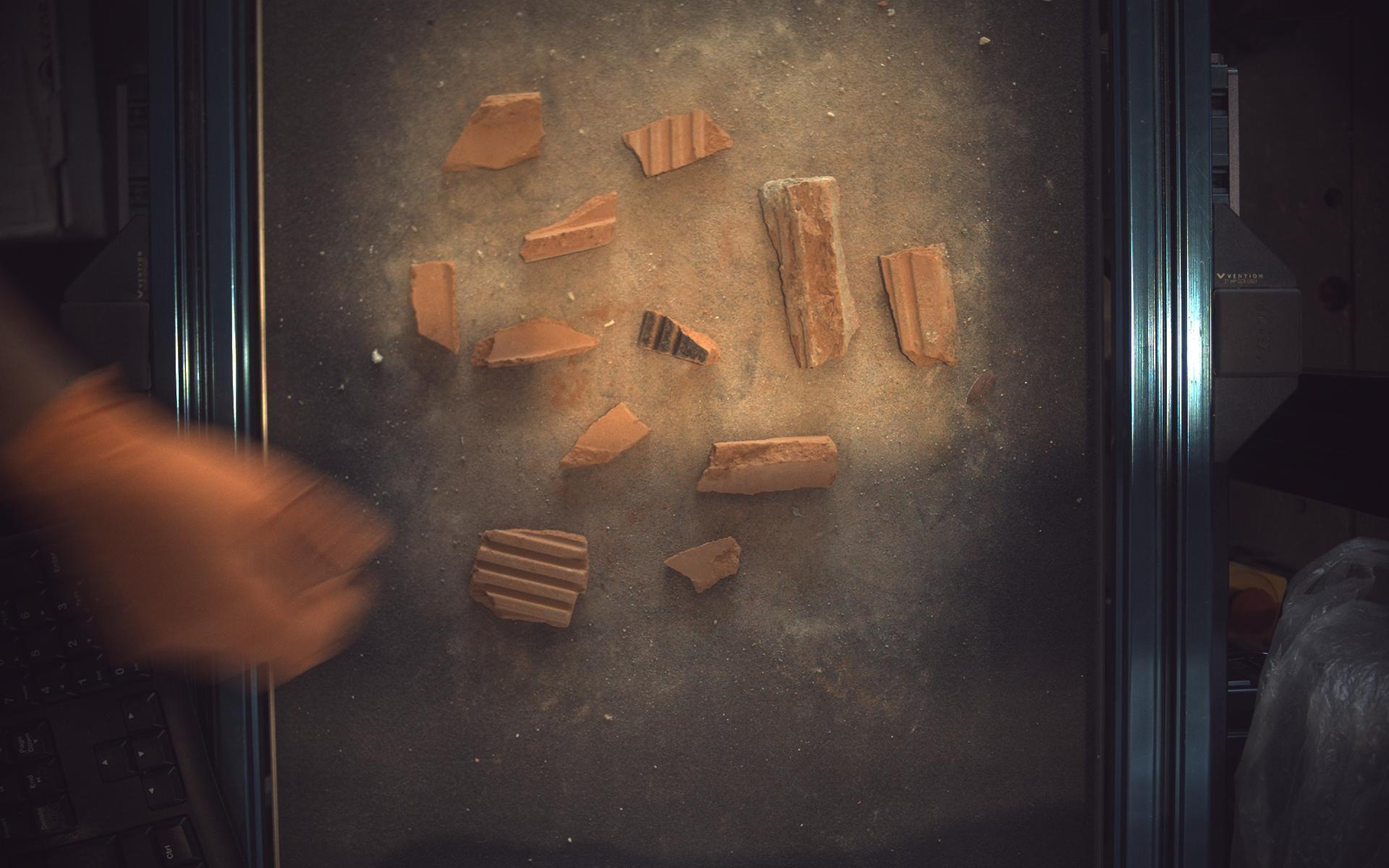brick: (761, 175, 861, 369), (470, 529, 590, 629), (881, 242, 960, 366), (698, 435, 839, 495), (443, 92, 544, 171), (624, 109, 734, 176), (520, 191, 618, 262), (471, 317, 600, 367), (561, 402, 651, 468), (638, 307, 722, 366), (411, 260, 460, 353), (666, 537, 742, 593)
